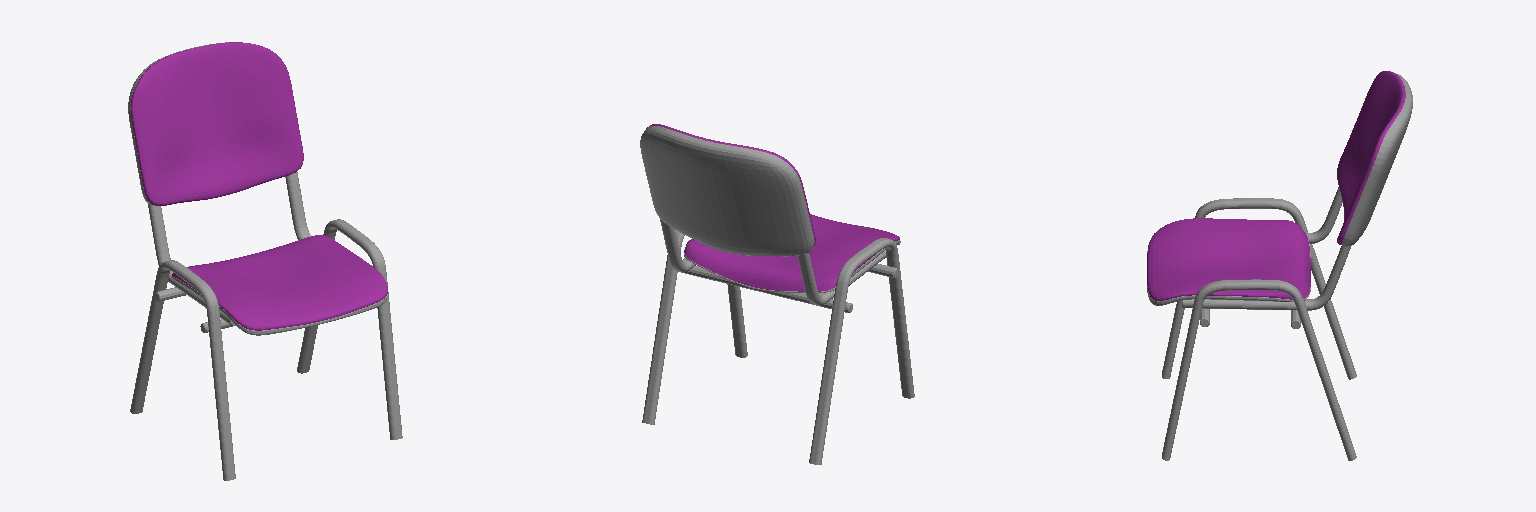
The model's file is chair.obj.
3 views of the same model, side by side, from view 1: azimuth 30°, elevation 25°; view 2: azimuth 150°, elevation 25°; view 3: azimuth 270°, elevation 25° (orthographic).
Parts seen in each view (by area): view 1: Chair BackCushion, Chair SeatCushion, Chair RightLeg, Chair LeftLeg, Chair Right, Chair Left, Chair SeatPlastic; view 2: Chair BackPlastic, Chair SeatCushion, Chair RightLeg, Chair LeftLeg, Chair Right, Chair Back, Chair Left; view 3: Chair SeatCushion, Chair BackCushion, Chair LeftLeg, Chair RightLeg, Chair BackPlastic, Chair Left, Chair Right, Chair SeatPlastic.
Part boxes in pixels (x1,y1,x2,y2): Chair BackCushion: (131, 42, 303, 205); Chair SeatCushion: (172, 235, 387, 330); Chair RightLeg: (130, 260, 235, 480); Chair LeftLeg: (297, 219, 402, 439); Chair Right: (148, 204, 235, 325); Chair Left: (285, 172, 310, 239); Chair SeatPlastic: (172, 276, 388, 335); Chair BackPlastic: (640, 126, 814, 256); Chair SeatCushion: (684, 214, 899, 291); Chair RightLeg: (809, 238, 914, 464); Chair LeftLeg: (642, 230, 747, 424); Chair Right: (797, 250, 885, 305); Chair Back: (678, 266, 852, 312); Chair Left: (660, 219, 695, 271); Chair SeatCushion: (1147, 218, 1310, 300); Chair BackCushion: (1337, 71, 1405, 244); Chair LeftLeg: (1162, 279, 1356, 460); Chair RightLeg: (1162, 198, 1356, 379); Chair BackPlastic: (1341, 72, 1412, 246); Chair Left: (1182, 245, 1351, 310); Chair Right: (1306, 187, 1342, 243); Chair SeatPlastic: (1147, 239, 1310, 305).
Bounding box in the file's own units: 48 × 81.84 × 60.88.